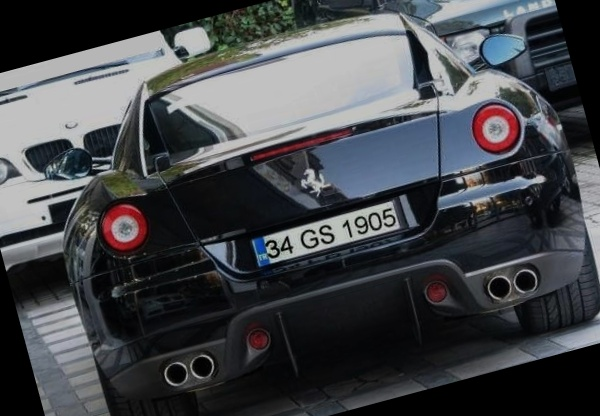plaka: (254, 205, 400, 261)
